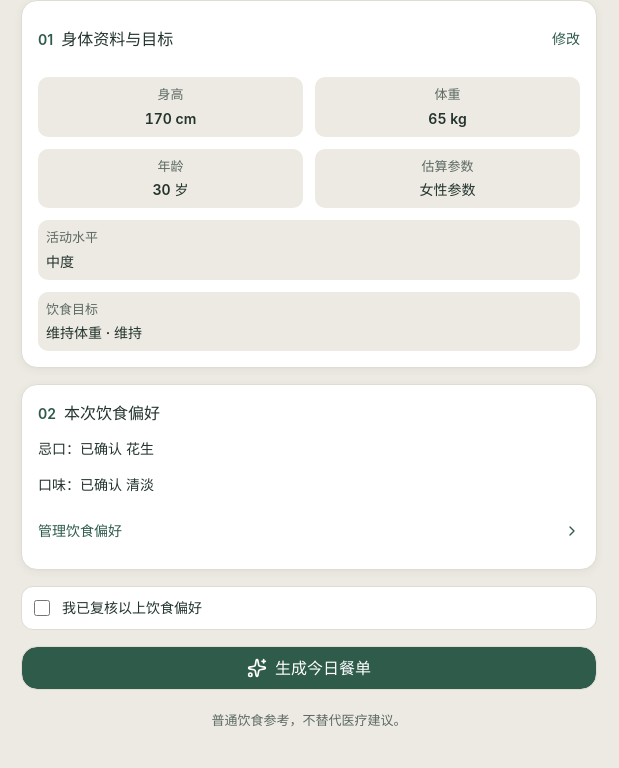
PlanPage › keeps the specific terminal report after replaying earlier stages
Expected: the text "170 cm" is shown, 145,110 -> 196,126
Click the checkbox labelled "我已复核以上饮食偏好": [42, 608] box 34,600 -> 50,616
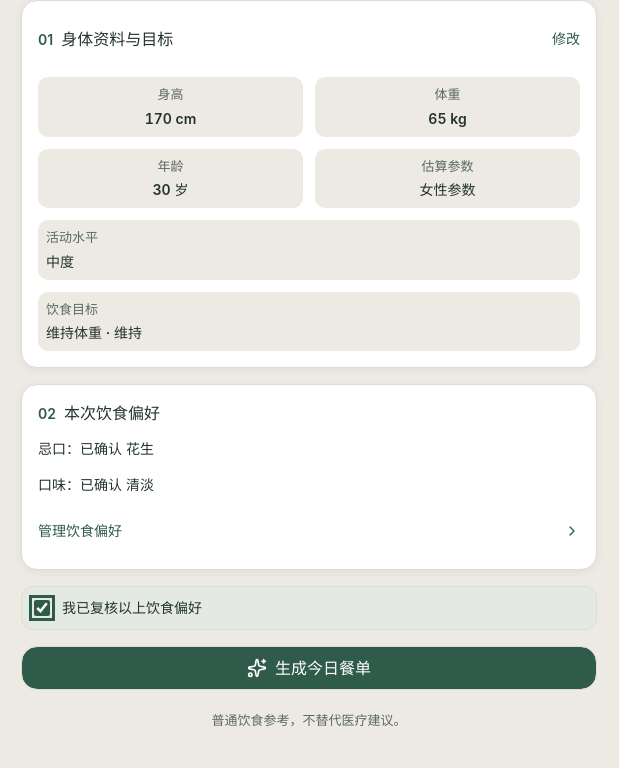
Click the button "生成今日餐单": [309, 668] box 21,646 -> 597,690
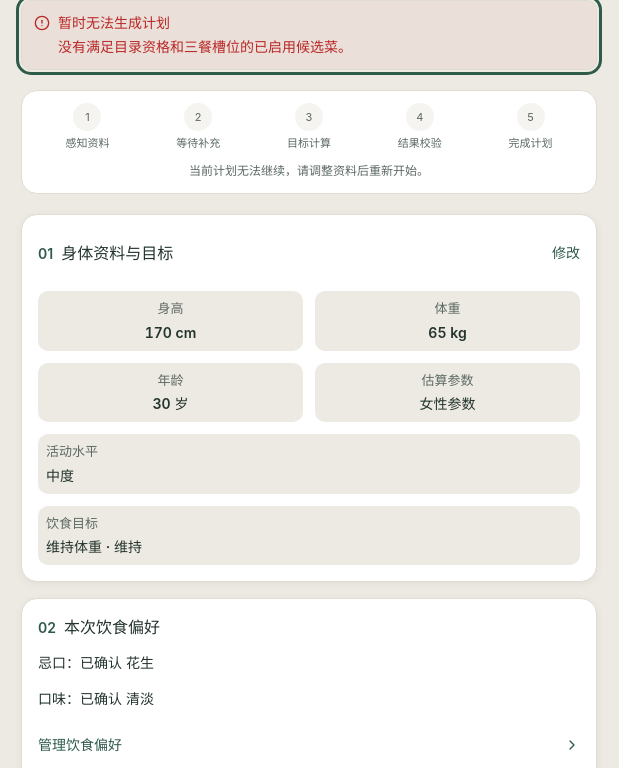
Expected: the text "没有满足目录资格和三餐槽位的已启用候选菜。" is shown, 58,38 -> 352,55
